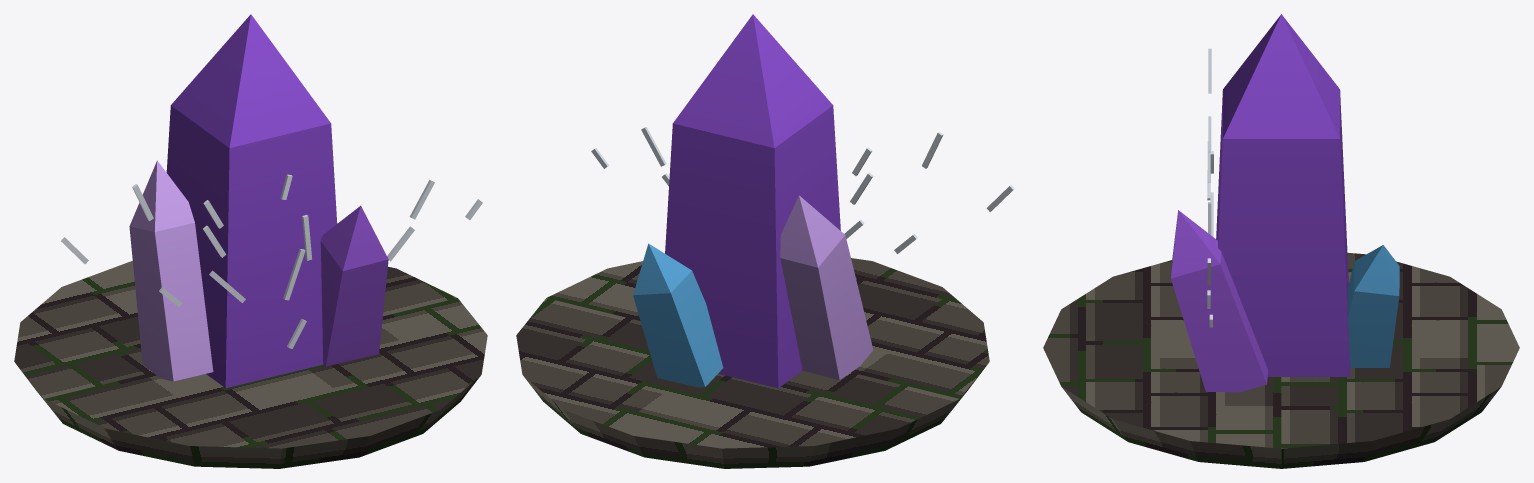
File: heart_prism.glb
The picture shows the model from 3 angles, left to right: view 1: azimuth 30°, elevation 25°; view 2: azimuth 150°, elevation 25°; view 3: azimuth 270°, elevation 25°; orthographic projection.
Visible parts, largest first — view 1: heart_prism; view 2: heart_prism; view 3: heart_prism.
Boxes of the visible parts, bbox=[...] form: heart_prism: bbox=[14, 14, 487, 468]; heart_prism: bbox=[516, 14, 1014, 468]; heart_prism: bbox=[1043, 14, 1519, 468].
Bounding box in the file's own units: 4.6 × 3.7 × 4.4.
Materials: 2 (1 with a texture image).
